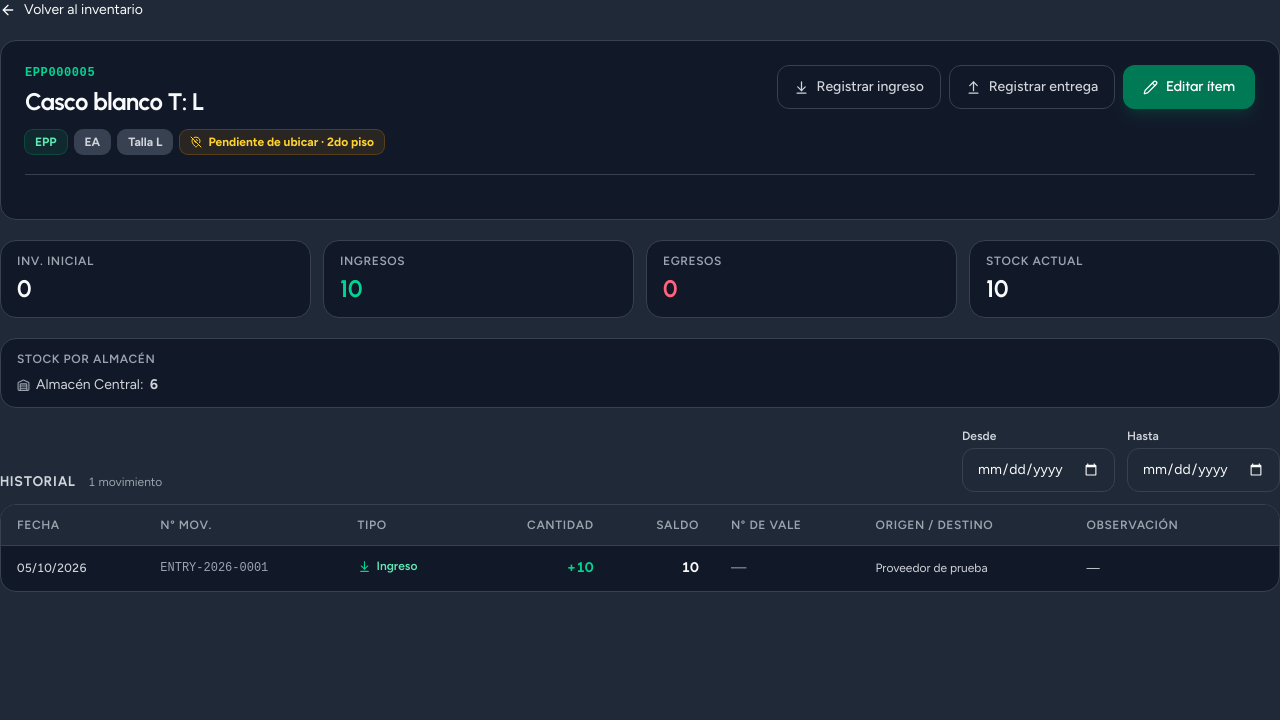
Test: KardexPage — rótulos y permiso de ubicación › Almacén Central y Jefe Logístico sí pueden elegir el piso
The width and height of the screenshot is (1280, 720).
Check: the table is shown, box x1=1 y1=505 x2=1279 y2=590
Click the button "Editar ítem": (1189, 87) x1=1123 y1=65 x2=1255 y2=109
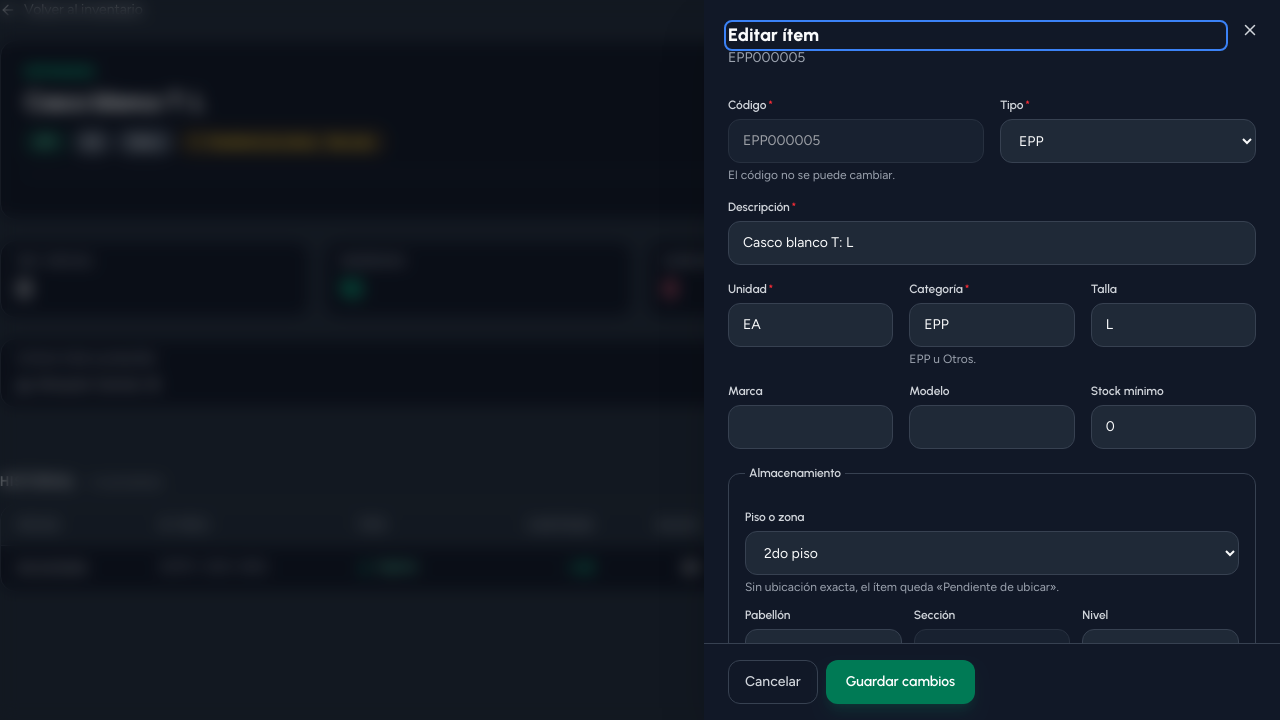
Check: the dropdown labelled "Piso o zona" is enabled, box x1=745 y1=531 x2=1239 y2=575
